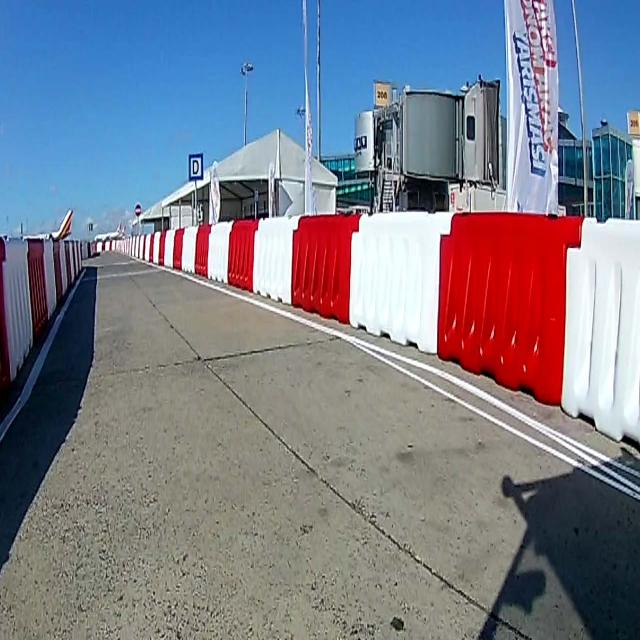durak: (189, 153, 204, 181)
girisyok: (134, 203, 142, 217)
